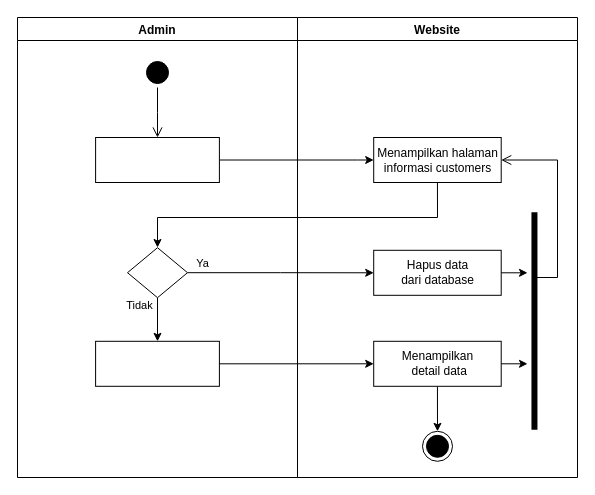
The diagram is 595 pixels wide and 495 high, and some of its shapes have lost their labels. The shapes that lost their labels are listed below. From the top down, each one's centre as x and y in pixels, then its label:
the point at 157,159: Akses halaman informasi customers
the point at 157,272: Hapus
the point at 157,363: Lihat detail data
